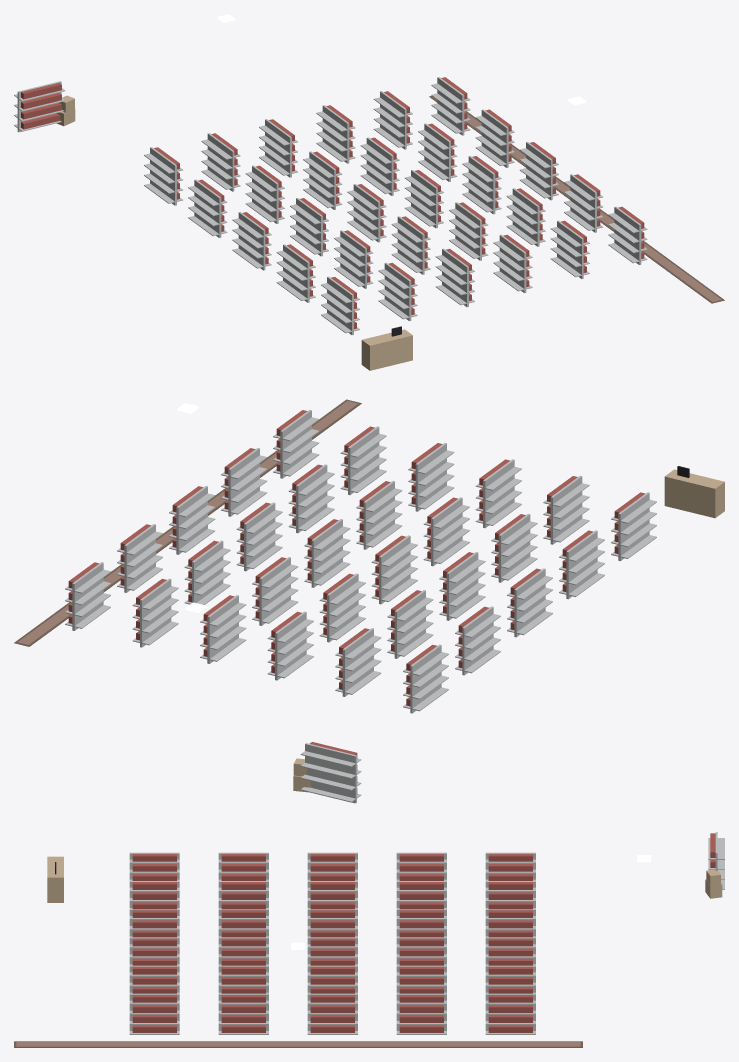
The model's file is fine-s0.glb.
The picture shows the model from 3 angles, top to bottom: view 1: azimuth 30°, elevation 25°; view 2: azimuth 150°, elevation 25°; view 3: azimuth 270°, elevation 25°; orthographic projection. The views are drawn at different scales.
Visible parts, largest first — view 1: shelving.000, soft-s0, shop-counter.000, shelf.025, shelf.002, shelf.005, shelf.023, shelf.015, shelf.012, shelf.022, shelf.013, shelf.001 (+21 smaller); view 2: shelving.000, soft-s0, shop-counter.000, shelf.009, shelf.008, shelf.010, shelf.016, shelf.017, shelf.027, shelf.028, shelf.019, shelf.002 (+21 smaller); view 3: soft-s0, shelf.025, shelf.026, shelf.027, shelf.028, shelf.029, shelf.015, shelf.016, shelf.017, shelf.018, shelf.019, shelf.000 (+22 smaller).
Boxes of the visible parts, x1,y1,x2,y2 form: shelving.000: (14,81,65,132); soft-s0: (429,96,724,303); shop-counter.000: (361,326,412,370); shelf.025: (431,77,470,135); shelf.002: (232,212,271,270); shelf.005: (201,133,240,191); shelf.023: (506,188,545,246); shelf.015: (316,105,355,163); shelf.012: (347,184,386,242); shelf.022: (462,155,501,214); shelf.013: (391,216,430,274); shelf.001: (188,179,227,237); shelving.000: (300,742,361,803); soft-s0: (14,399,361,646); shop-counter.000: (664,466,724,518); shelf.009: (543,475,589,544); shelf.008: (491,514,537,582); shelf.010: (267,611,313,680); shelf.016: (252,557,298,625); shelf.017: (304,519,350,587); shelf.027: (169,486,215,554); shelf.028: (221,448,267,516); shelf.019: (408,443,454,511); shelf.002: (507,568,552,637); soft-s0: (14,1041,582,1047); shelf.025: (485,993,535,1034); shelf.026: (396,993,446,1034); shelf.027: (307,993,357,1034); shelf.028: (218,993,268,1034); shelf.029: (129,993,179,1034); shelf.015: (485,937,535,965); shelf.016: (396,937,446,965); shelf.017: (307,937,357,965); shelf.018: (218,937,268,965); shelf.019: (129,937,179,965); shelf.000: (485,852,535,880).
Bounding box in the file's own units: 14.93 × 3.93 × 25.56.
